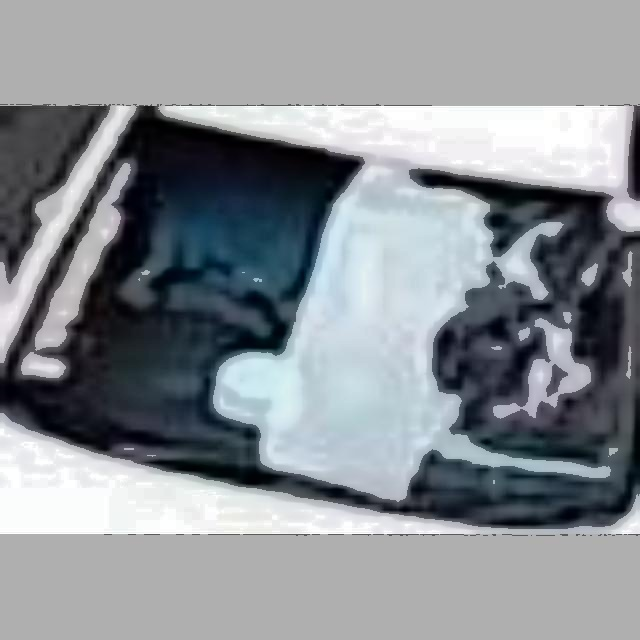tidak-pakai: (136, 167, 306, 378)
